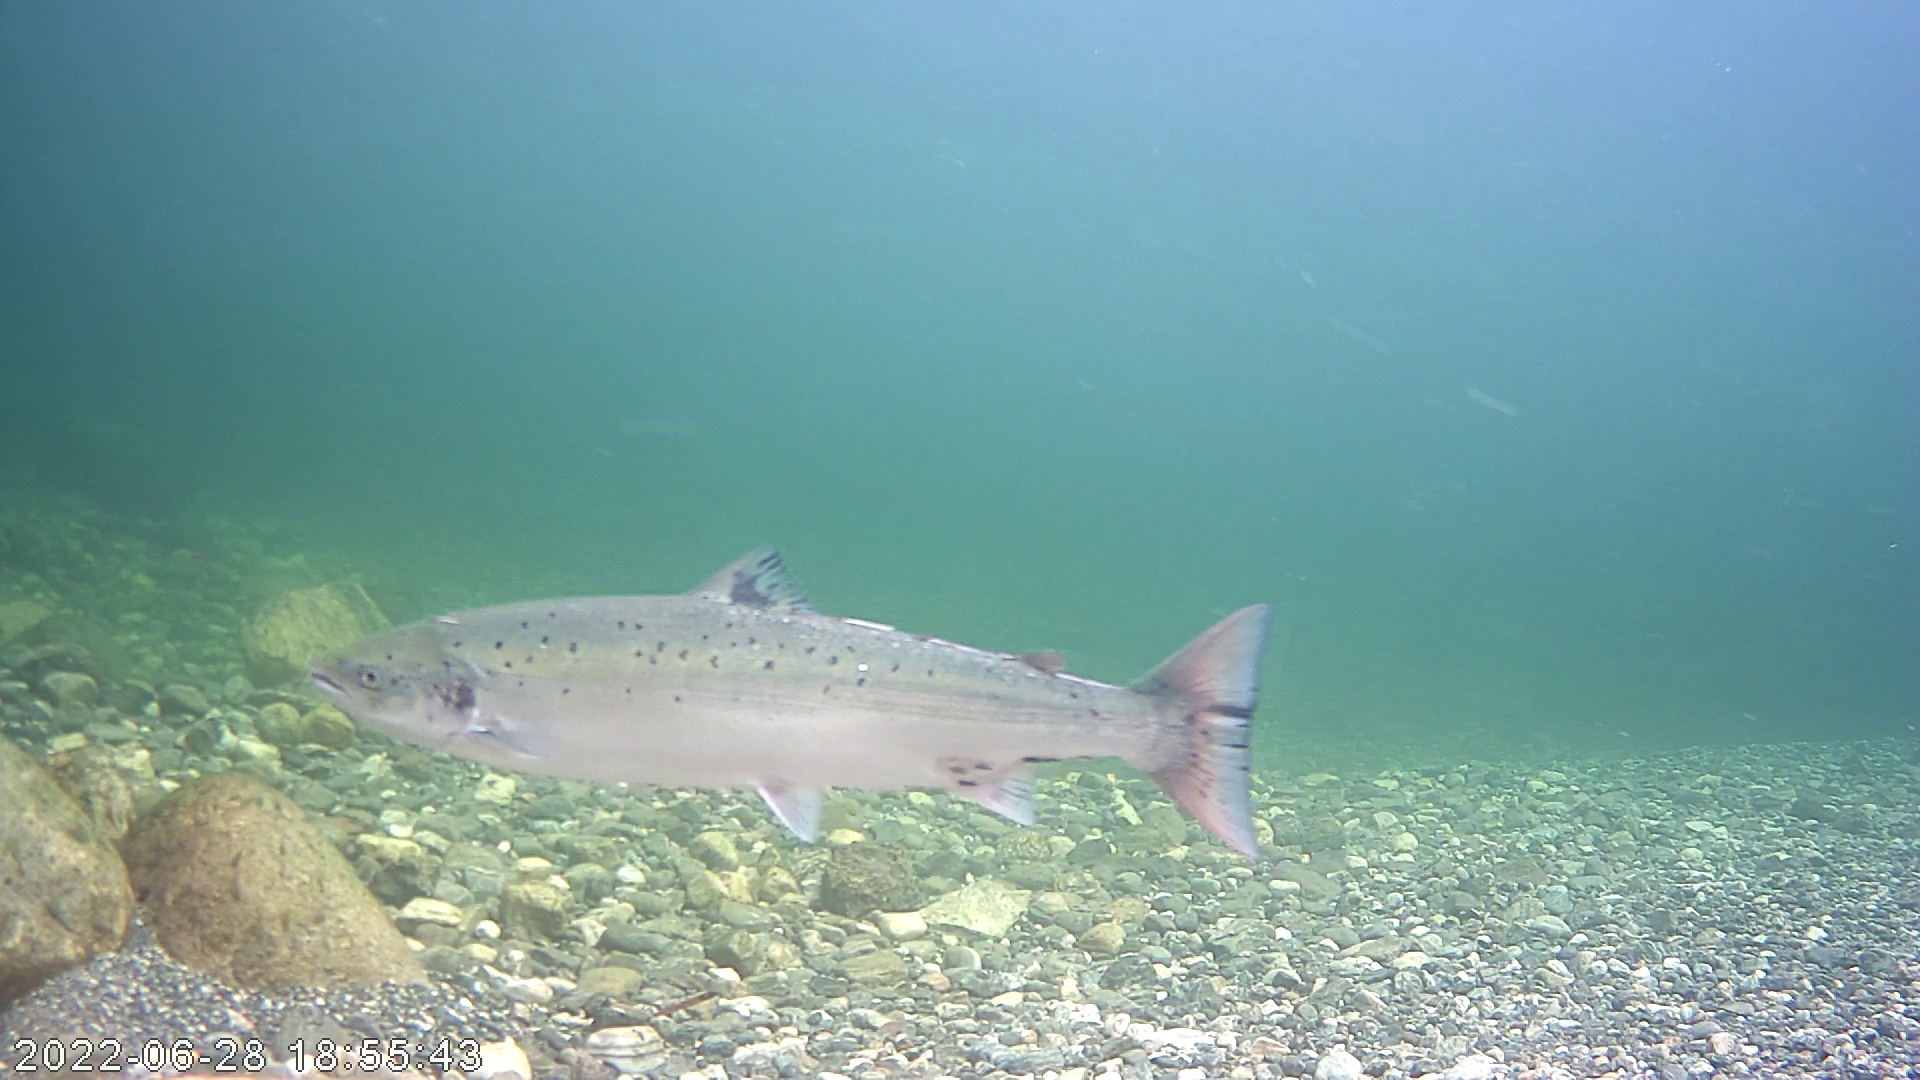salmon: (297, 520, 1303, 878)
